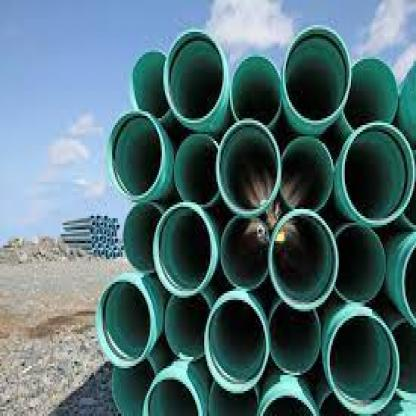PVC: (96, 28, 414, 414), (61, 214, 123, 258)
